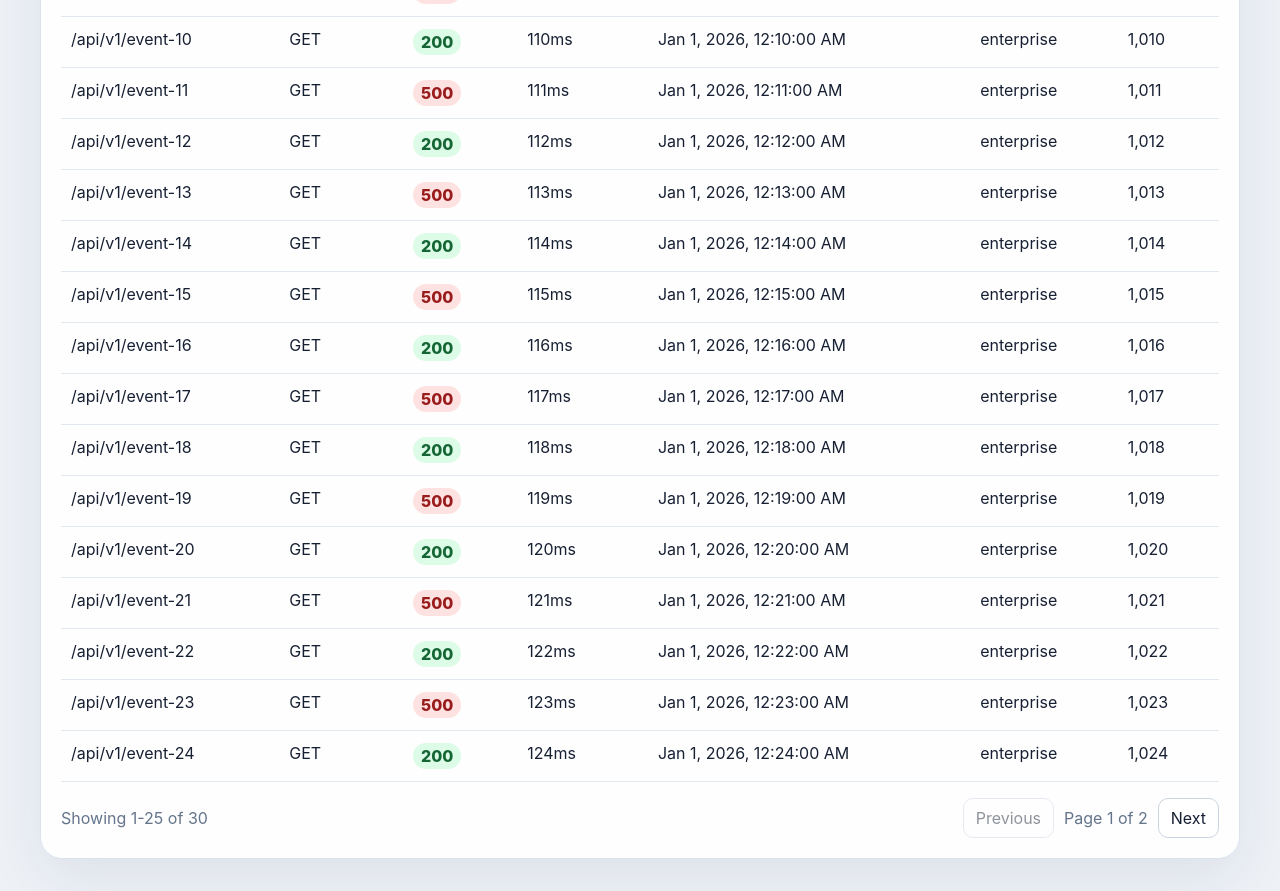
Test: request log investigator › paginates rows and opens a clicked row in a popup
The width and height of the screenshot is (1280, 891).
(page scrolled)
Expected: the text "/api/v1/event-25" is not shown
Expected: the text "Page 1 of 2" is shown, [1064,808,1148,828]
Click the button "Next" at [1188, 818], box [1158,798,1219,838]
(page scrolled)
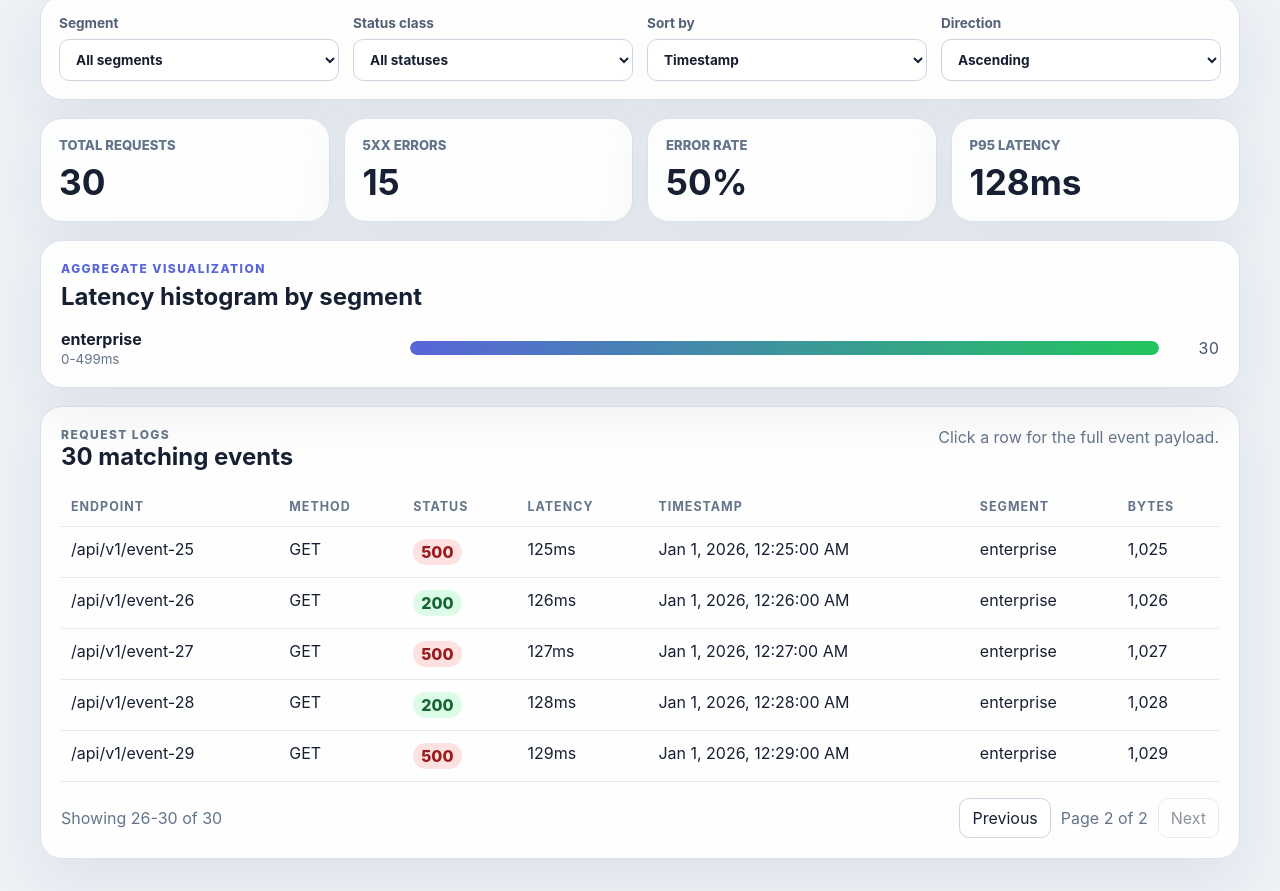
Expected: the text "/api/v1/event-25" is shown
Expected: the text "Page 2 of 2" is shown, [1061,808,1148,828]
Click the text "/api/v1/event-25" at [170, 552], box [61,526,279,577]
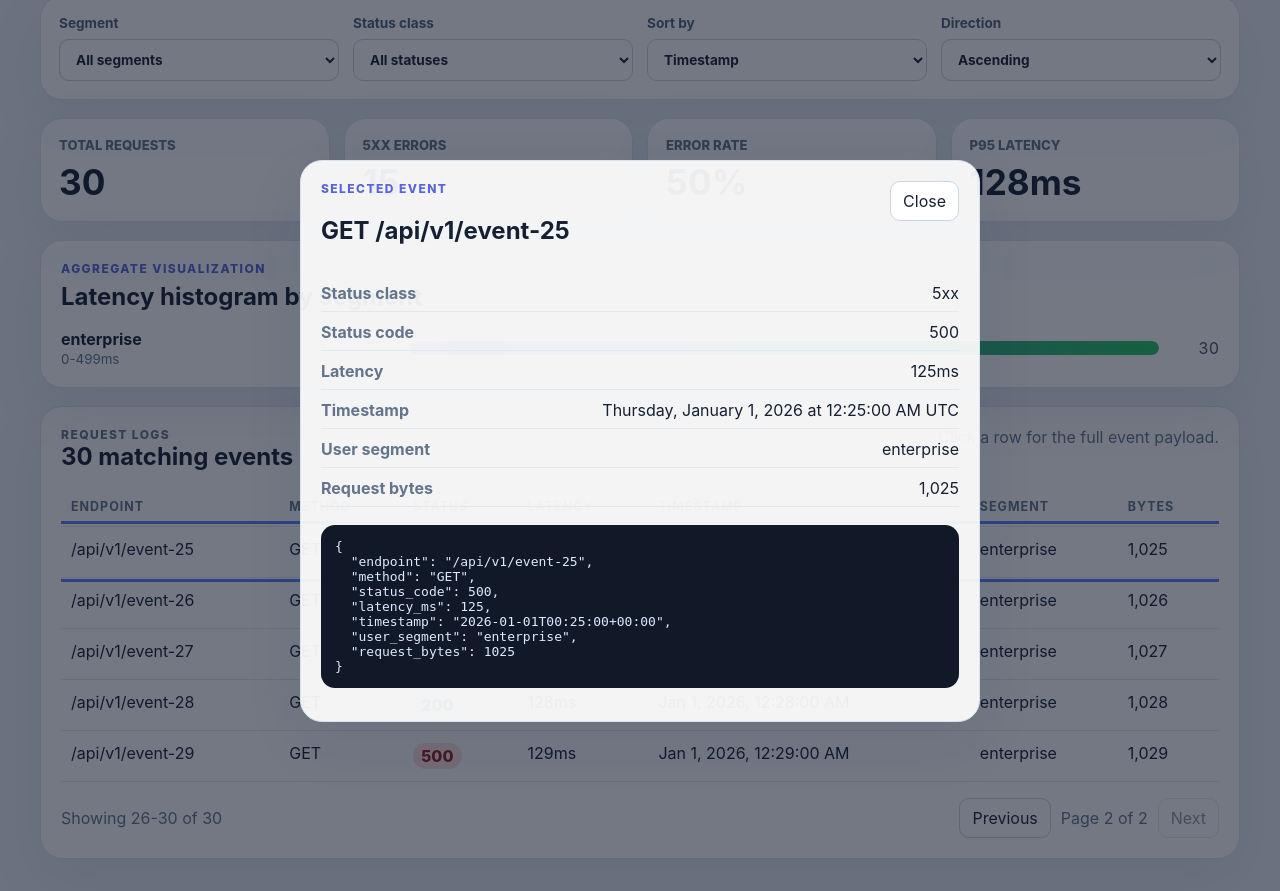
Expected: the dialog "GET /api/v1/event-25" is shown, [300,160,980,722]
Expected: the text named "Raw event JSON" shows "\"request_bytes\": 1025", [335,539,672,674]
